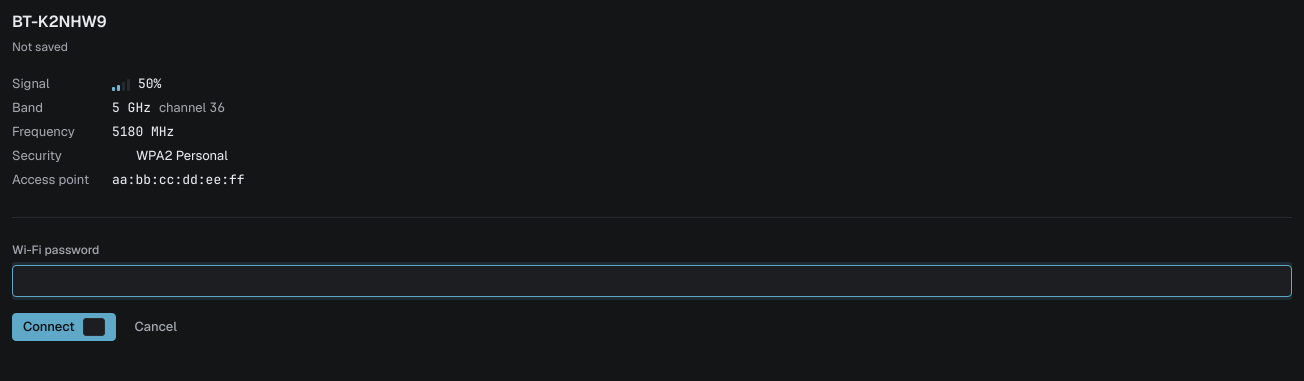
Scenario: connect flow › shows the wrong-password line when the daemon rejects the secret
Type "hunter2hunter" into the password field labelled "Wi-Fi password" at (652, 281), box [12,265,1292,297]
Then press Enter
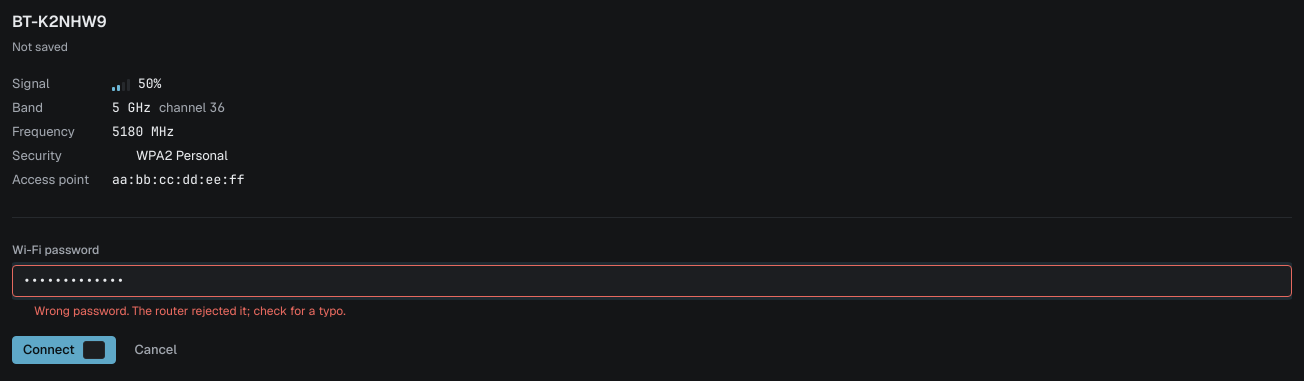
Now the message reads "Wrong password. The router rejected it; check for a typo.", box [34,303,346,319]
